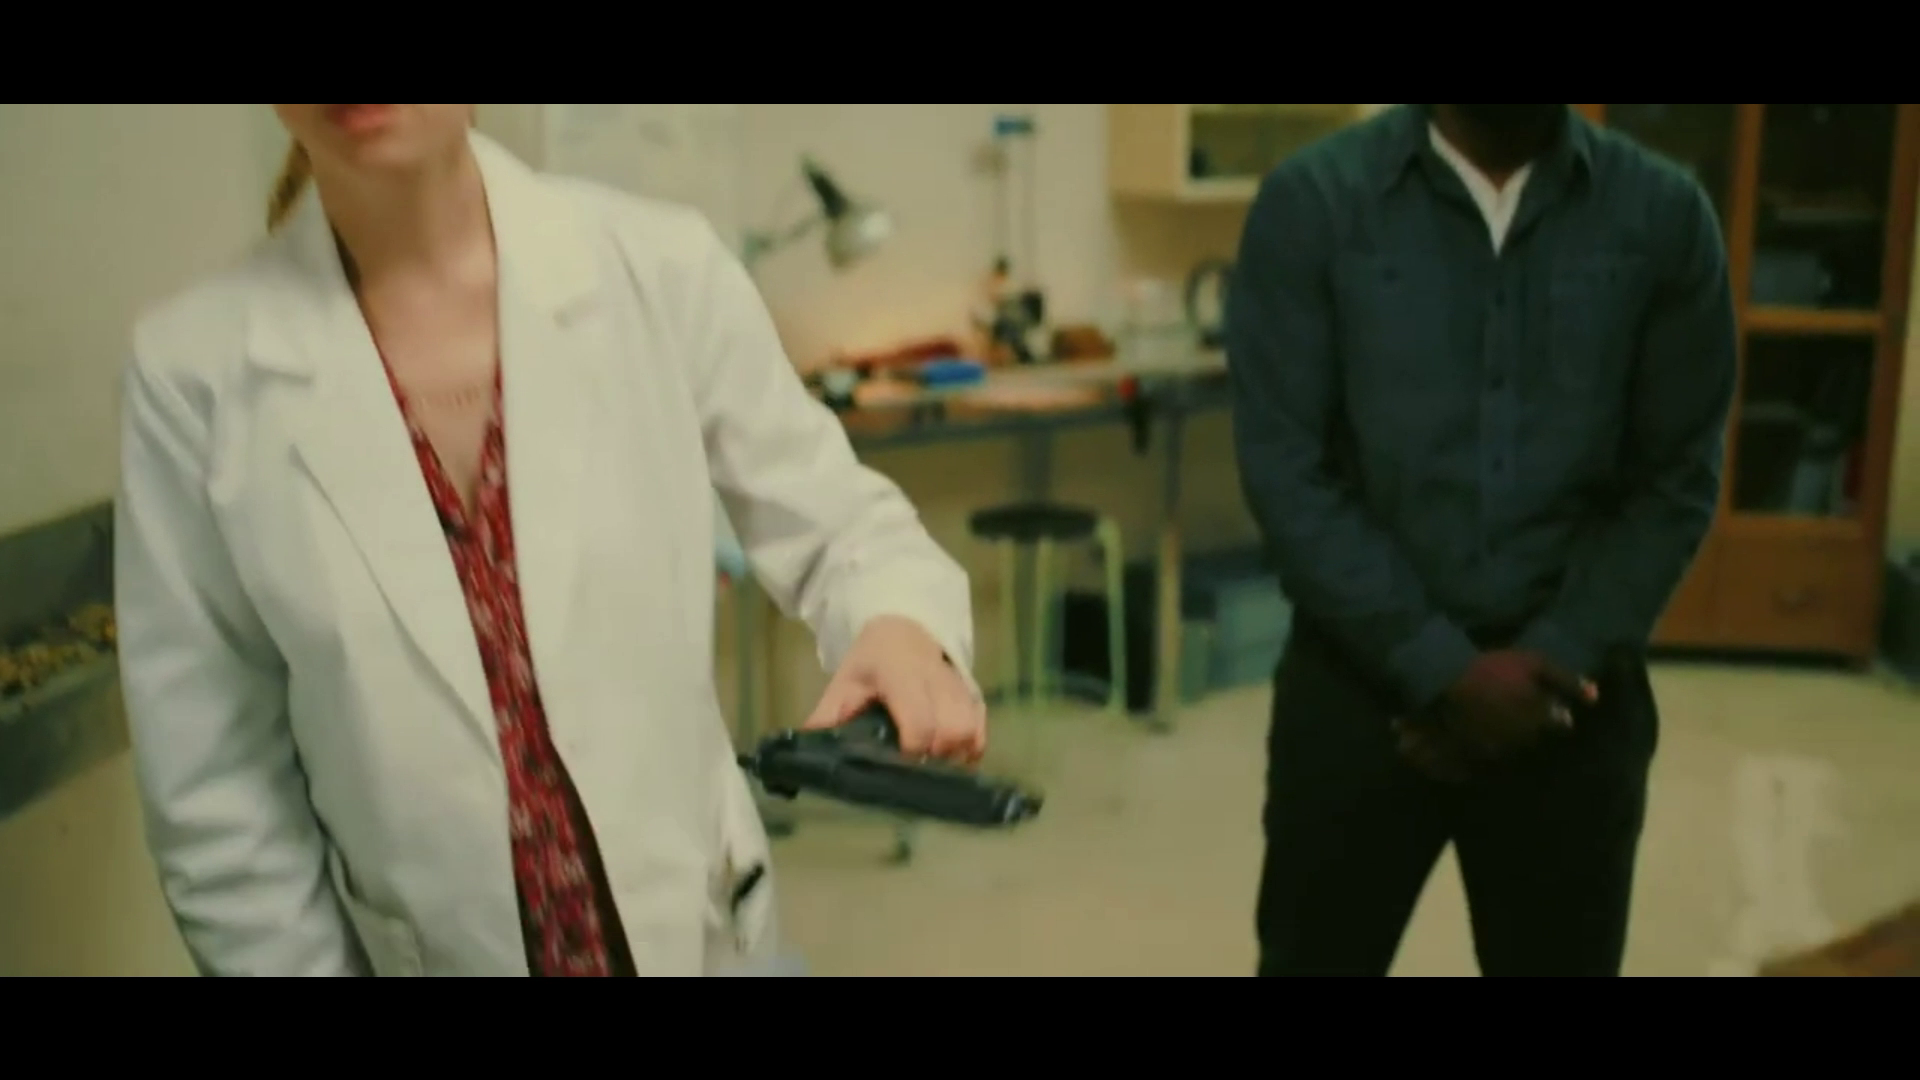SIG P226: (736, 721, 1044, 841)
